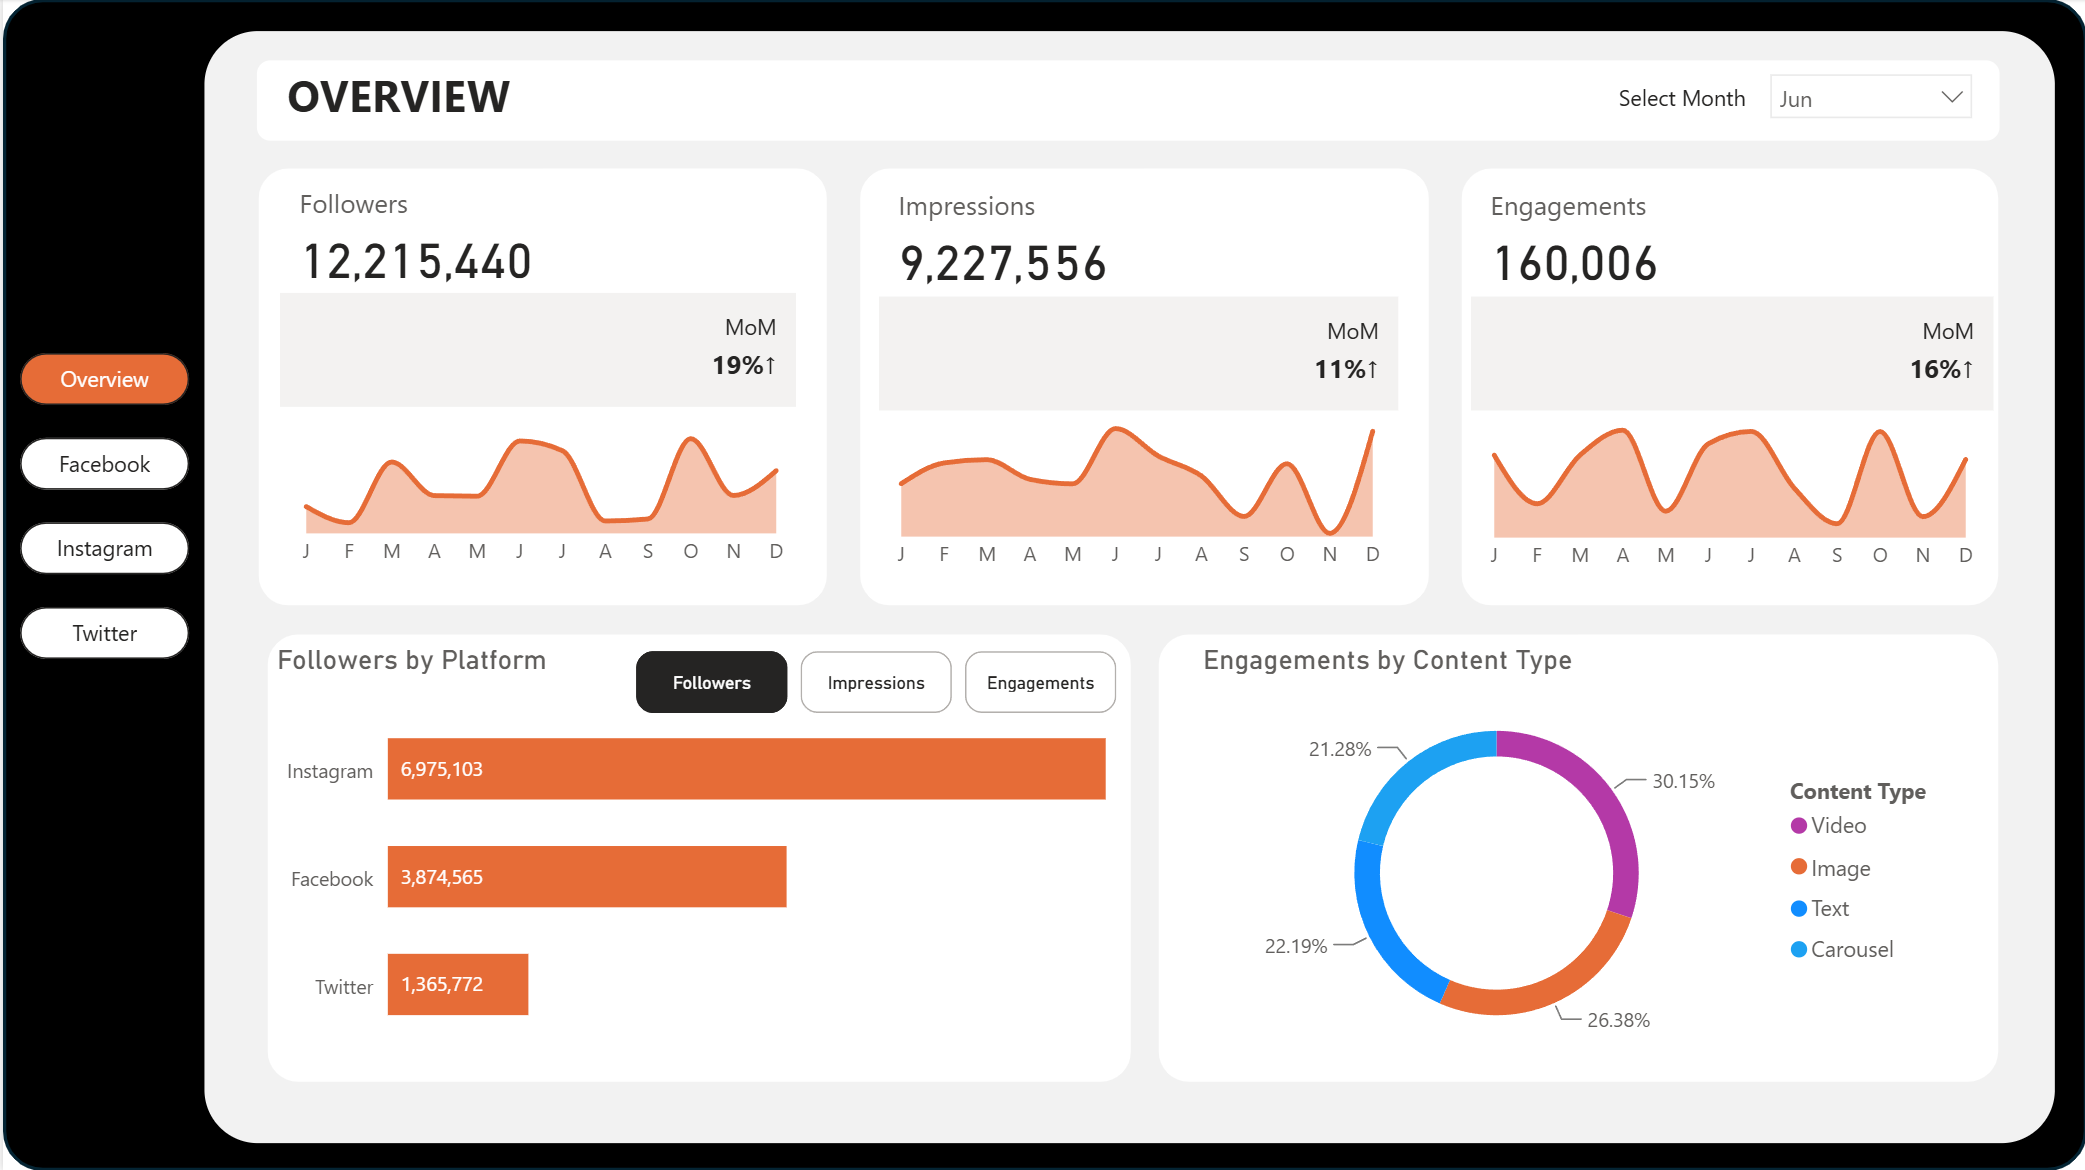

What the dashboard file says about the page in this screenshot:
{"tool":"powerbi","page":{"name":"Overview","canvas":[1280,900],"ordinal":0},"visuals":[{"type":"cardVisual","fields":{"Data":["_Measures.Total Shipments","_Measures.On-Time %","_Measures.Delayed %","_Measures.Total Transactions","_Measures.Avg Utilization"]},"box":[17,161.9,1235,130.9],"z":0},{"type":"lineChart","title":"Shipment Status Overview","fields":{"Category":["Date.Month"],"Y":["_Measures.Total Shipments"],"Series":["LogisticsData.Shipment Status"]},"box":[31,320.3,719.8,230.7],"z":1000},{"type":"barChart","title":"Top Locations by Volume","fields":{"Y":["_Measures.Total Shipments"],"Category":["LogisticsData.City"]},"box":[783.5,320.3,451.2,230.7],"z":2000},{"type":"lineChart","title":"Fleet Utilization ","fields":{"Y":["_Measures.Avg Utilization"],"Category":["LogisticsData.Asset ID"]},"box":[29.3,592.4,721.5,263.5],"z":3000},{"type":"donutChart","title":"Delay Reasons Analysis","fields":{"Category":["LogisticsData.Logistics Delay Reason"],"Y":["_Measures.Total Shipments"]},"box":[783.5,592.4,451.2,263.5],"z":4000},{"type":"slicer","fields":{"Values":["Date.Year","Date.Month"]},"box":[1043.5,86,191.1,58.5],"z":5000},{"type":"slicer","fields":{"Values":["LogisticsData.City"]},"box":[873,86,170.5,62],"z":6000},{"type":"slicer","fields":{"Values":["LogisticsData.Asset ID"]},"box":[702.6,86,170.5,55.1],"z":7000},{"type":"pageNavigator","box":[34,100.4,330.6,35.5],"z":8000},{"type":"textbox","box":[34,37.1,431,49.4],"z":9000}]}

Visuals, with their boxes on the page's 1280x900 design canvas (x1, y1, x2, y2). These are canvas units, not pixel positions in the 2085x1170 screenshot, which may show the page scaled, cropped or inside an application window:
cardVisual - _Measures.Total Shipments x _Measures.On-Time %: select_region(17, 162, 1252, 293)
"Shipment Status Overview" lineChart: select_region(31, 320, 751, 551)
"Top Locations by Volume" barChart: select_region(784, 320, 1235, 551)
"Fleet Utilization " lineChart: select_region(29, 592, 751, 856)
"Delay Reasons Analysis" donutChart: select_region(784, 592, 1235, 856)
slicer - Date.Year x Date.Month: select_region(1044, 86, 1235, 144)
slicer - LogisticsData.City: select_region(873, 86, 1044, 148)
slicer - LogisticsData.Asset ID: select_region(703, 86, 873, 141)
pageNavigator: select_region(34, 100, 365, 136)
textbox: select_region(34, 37, 465, 86)
